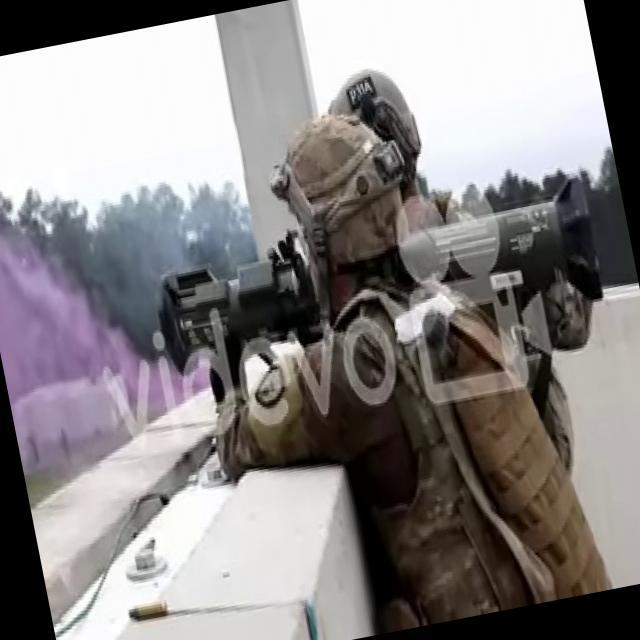rocket: (146, 162, 604, 380)
